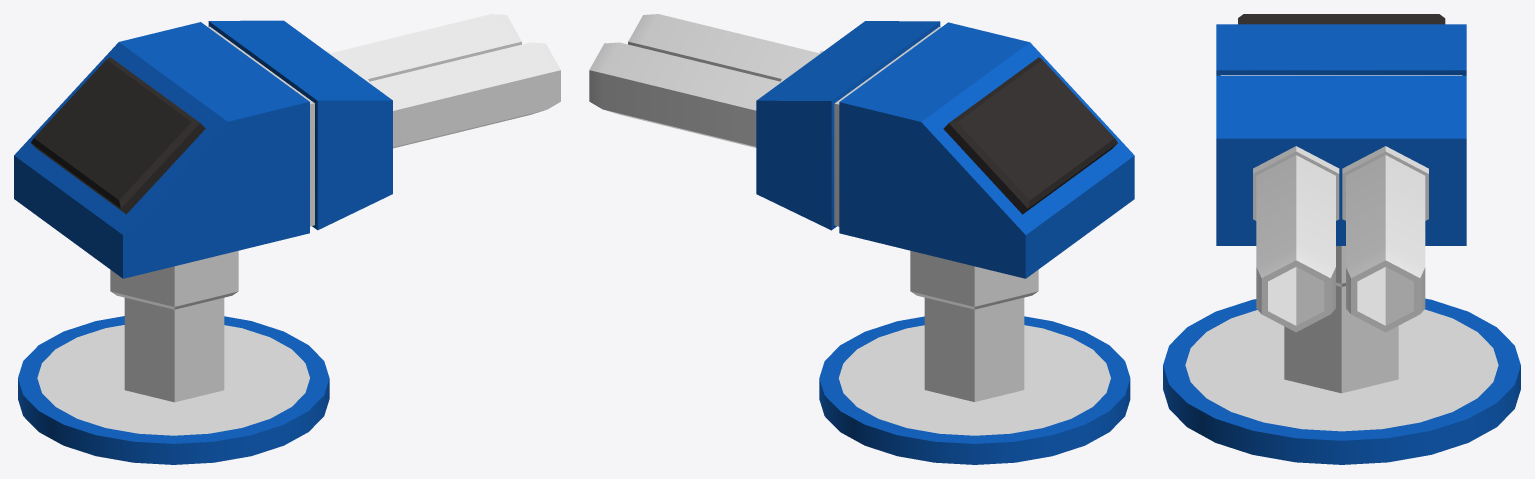
File: Turret_var2.fbx
3 renders of one model, left to right at view 1: azimuth 30°, elevation 25°; view 2: azimuth 150°, elevation 25°; view 3: azimuth 270°, elevation 25°, orthographic. The views are drawn at different scales.
Parts seen in each view (by area): view 1: Turret_var2_mainbody, Turret_var2_stand, Turret_var2_bridge; view 2: Turret_var2_mainbody, Turret_var2_stand, Turret_var2_bridge; view 3: Turret_var2_mainbody, Turret_var2_stand, Turret_var2_bridge.
Part boxes in pixels (left/top/right/bottom): Turret_var2_mainbody: left=14, top=14, right=560, bottom=278; Turret_var2_stand: left=18, top=316, right=329, bottom=464; Turret_var2_bridge: left=110, top=251, right=238, bottom=402; Turret_var2_mainbody: left=589, top=14, right=1134, bottom=278; Turret_var2_stand: left=819, top=316, right=1130, bottom=464; Turret_var2_bridge: left=910, top=250, right=1038, bottom=401; Turret_var2_mainbody: left=1216, top=14, right=1466, bottom=332; Turret_var2_stand: left=1163, top=298, right=1520, bottom=464; Turret_var2_bridge: left=1284, top=246, right=1398, bottom=393.
Bounding box in the file's own units: 3.61 × 2.25 × 2.
1 material, 1 textured.
